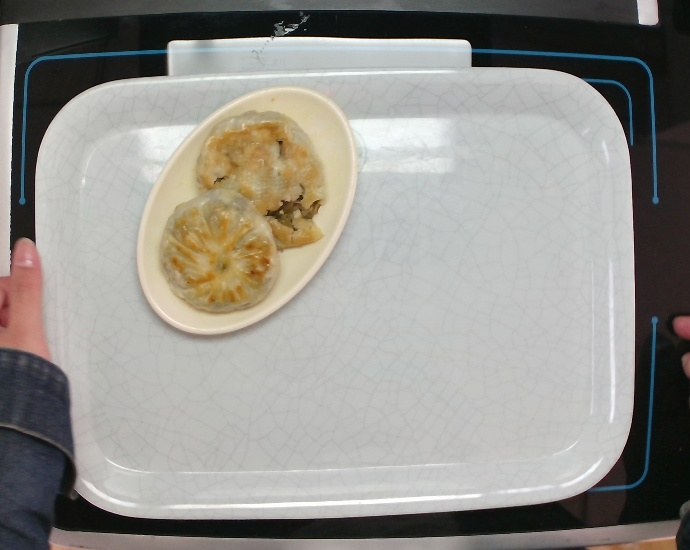JYsf-Tuo_Yuan_Wan: (126, 79, 365, 342)
